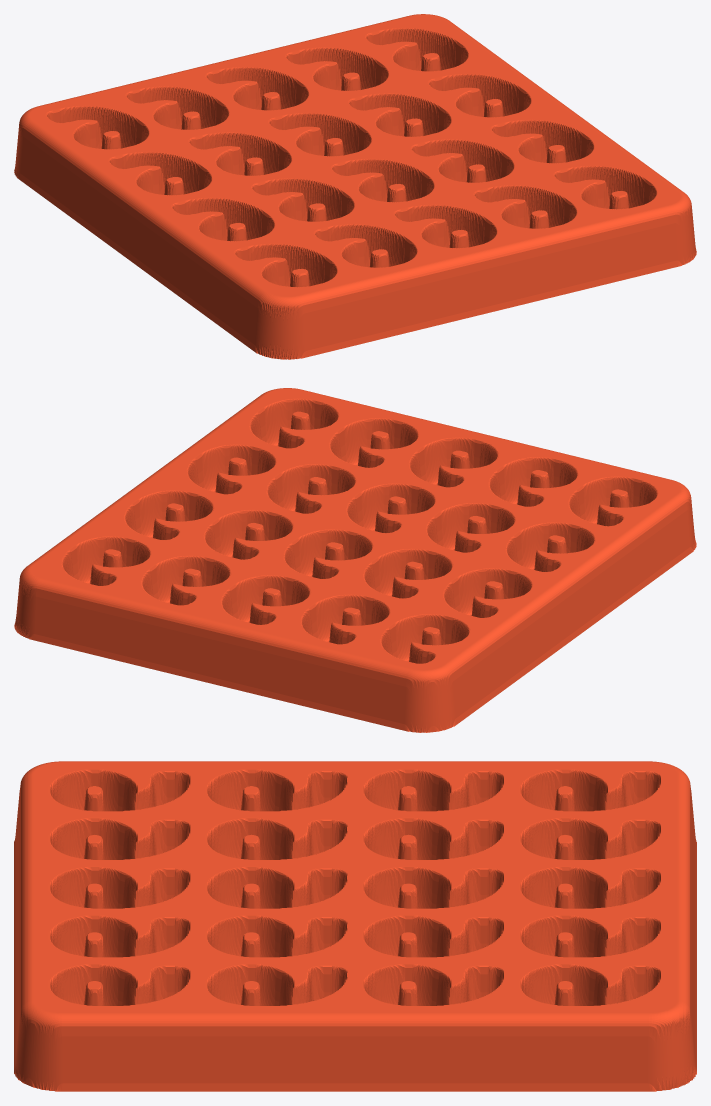
The model's file is mold.glb.
The picture shows the model from 3 angles, top to bottom: view 1: azimuth 30°, elevation 25°; view 2: azimuth 150°, elevation 25°; view 3: azimuth 270°, elevation 25°; orthographic projection. The views are drawn at different scales.
Visible parts, largest first — view 1: geometry_0; view 2: geometry_0; view 3: geometry_0.
Part boxes in pixels (left/top/right/bottom): geometry_0: left=14, top=14, right=696, bottom=359; geometry_0: left=14, top=388, right=696, bottom=732; geometry_0: left=14, top=761, right=696, bottom=1091.
Bounding box in the file's own units: 0.1182 × 0.0145 × 0.1278.
